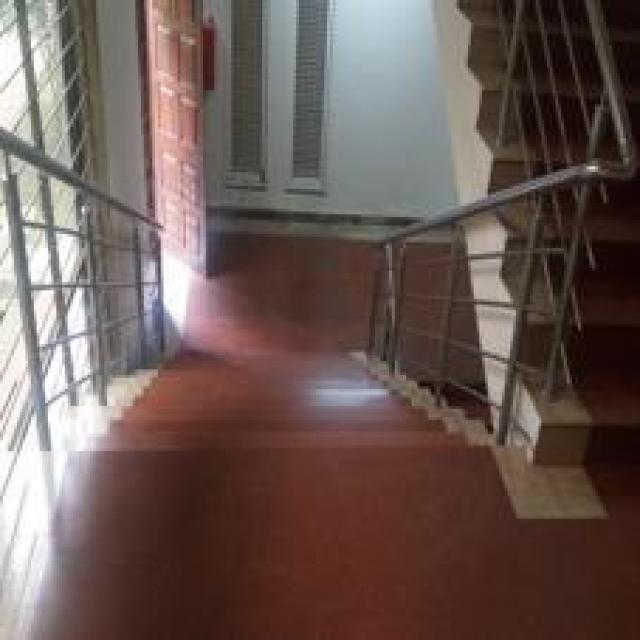downstair: (44, 339, 481, 503)
